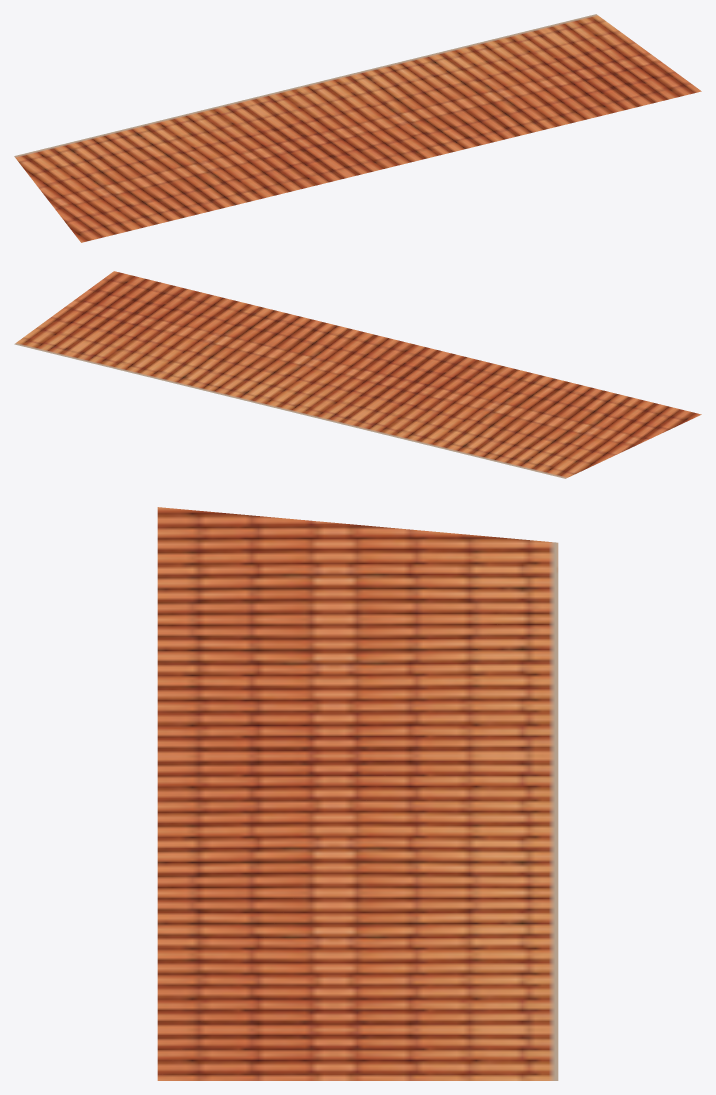
Rendered from SauPhaiDuoi.glb.
3 views of the same model, one above another, from view 1: azimuth 30°, elevation 25°; view 2: azimuth 150°, elevation 25°; view 3: azimuth 270°, elevation 25° (orthographic). The views are drawn at different scales.
Visible parts, largest first — view 1: Object_4.009; view 2: Object_4.009; view 3: Object_4.009.
Part boxes in pixels (bbox=[...]): Object_4.009: bbox=[14, 14, 701, 242]; Object_4.009: bbox=[14, 271, 701, 478]; Object_4.009: bbox=[157, 507, 558, 1080].
Size of the model in its own units: 0.5567 by 0 by 0.1642.
Materials: 1 (1 with a texture image).
